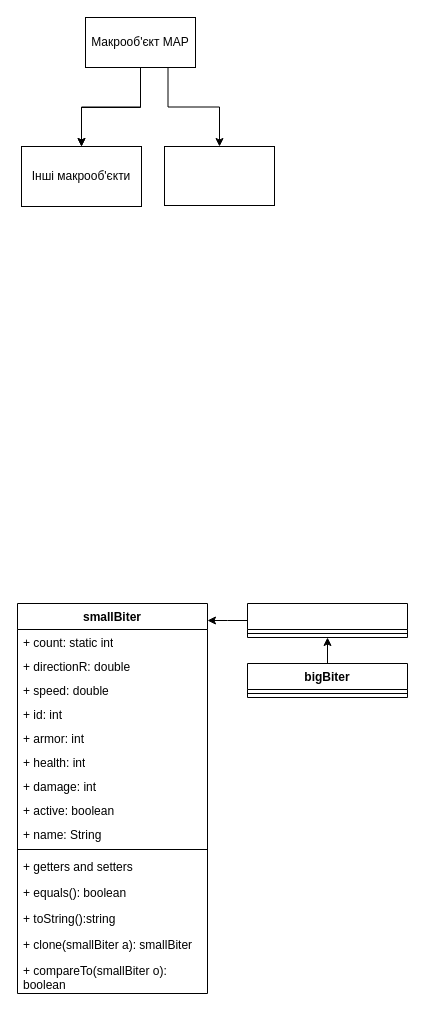
This 425x1014 diagram has some shape labels left out. The shapes that lost their labels are listed below. From the top down, each one's centre as x and y in pixels, then its label:
point (219, 176): Мікрооб'єкти Small Biter, Medium Biter, Big Biter
point (327, 620): mediumBiter
